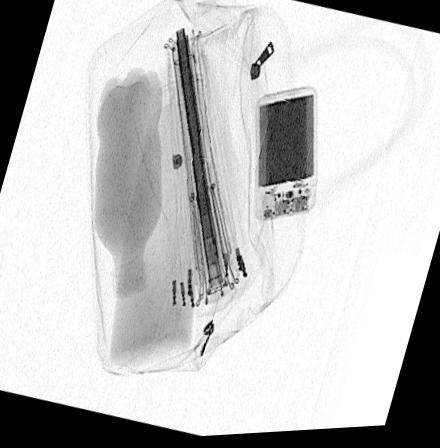Powerbank: (254, 88, 318, 224)
